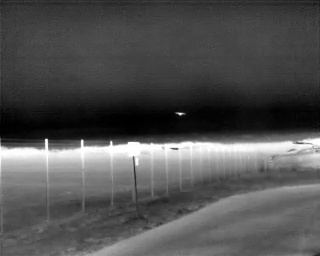AIRPLANE: (174, 109, 187, 118)
